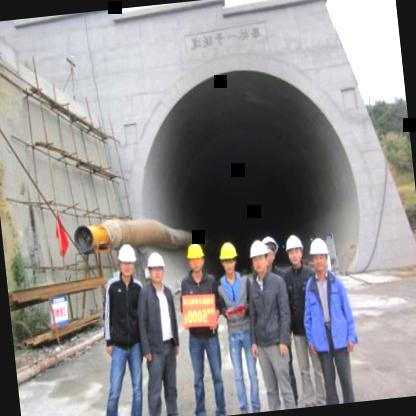helmet: (142, 247, 168, 290), (258, 232, 281, 274), (115, 242, 138, 283), (247, 238, 270, 278), (284, 230, 308, 267), (308, 236, 330, 276), (218, 239, 241, 276), (186, 243, 209, 278)
